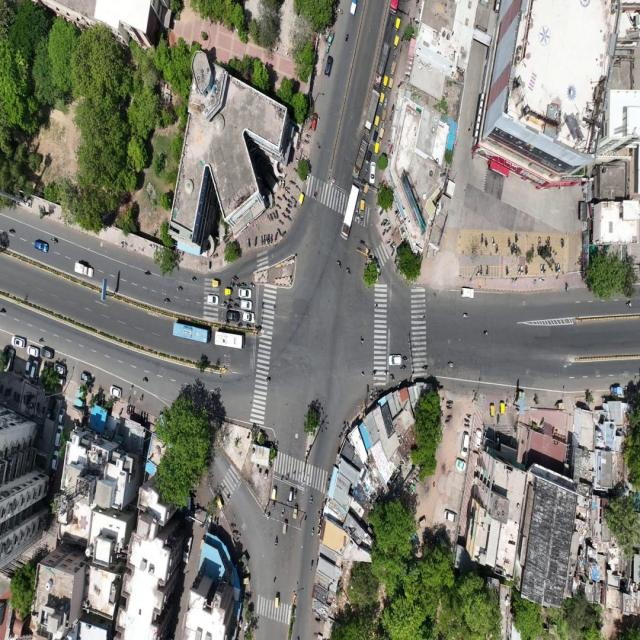3W: (212, 489, 224, 512), (271, 588, 281, 612), (270, 481, 278, 503), (487, 403, 496, 419), (292, 502, 299, 522), (210, 276, 220, 289), (296, 192, 306, 205), (392, 34, 400, 50), (390, 62, 398, 78), (500, 400, 507, 417), (379, 91, 385, 110), (281, 519, 288, 535), (365, 150, 372, 166), (394, 17, 400, 34), (383, 75, 389, 92), (364, 183, 370, 200), (374, 114, 380, 130), (374, 142, 380, 158), (378, 128, 385, 141), (372, 129, 378, 144), (359, 178, 365, 193), (359, 200, 366, 212), (388, 78, 393, 94), (381, 110, 386, 126), (224, 287, 232, 296)
Bus: (170, 319, 212, 348), (212, 328, 246, 352)
Cars: (457, 432, 470, 456), (33, 238, 49, 256), (458, 286, 477, 301), (54, 424, 64, 450), (324, 54, 334, 80), (49, 450, 60, 472), (52, 362, 67, 378), (109, 382, 122, 400), (310, 109, 320, 132), (10, 335, 26, 349), (203, 293, 220, 306), (56, 405, 68, 423), (41, 346, 56, 360), (241, 311, 256, 323), (370, 161, 377, 186), (27, 344, 40, 357), (388, 354, 402, 366), (226, 310, 240, 322), (23, 360, 31, 380), (238, 288, 252, 299), (240, 299, 253, 310), (289, 486, 294, 502)
LCV: (73, 260, 96, 279)
M2W: (162, 293, 172, 306), (308, 556, 315, 573), (190, 272, 199, 285), (264, 508, 272, 522), (140, 374, 150, 385), (51, 235, 60, 247), (273, 533, 280, 548), (6, 226, 17, 235), (176, 281, 184, 293), (308, 492, 314, 508), (310, 524, 316, 540), (554, 261, 561, 274), (312, 189, 319, 202), (143, 268, 152, 278), (345, 266, 352, 278), (559, 238, 566, 250), (335, 257, 341, 270), (564, 281, 570, 294), (293, 486, 298, 501), (263, 376, 272, 384), (482, 328, 490, 337), (447, 360, 455, 369), (399, 364, 408, 372), (506, 236, 512, 248), (538, 264, 544, 276), (460, 312, 470, 319), (496, 412, 501, 426), (475, 264, 480, 278), (524, 264, 529, 278), (359, 336, 365, 347), (371, 367, 377, 378), (364, 166, 370, 177), (345, 31, 350, 44), (281, 506, 286, 519), (384, 97, 389, 110), (421, 362, 429, 370), (288, 178, 296, 186), (402, 353, 409, 362), (624, 300, 633, 307), (390, 372, 396, 382), (445, 398, 455, 404), (444, 404, 454, 410), (284, 472, 290, 482), (360, 214, 365, 226), (382, 368, 389, 376), (485, 263, 489, 277), (231, 274, 239, 281), (254, 234, 258, 248), (272, 211, 277, 222), (463, 412, 472, 418), (295, 184, 301, 193), (381, 229, 387, 238), (495, 242, 499, 255), (514, 232, 518, 245), (248, 236, 252, 249), (260, 234, 264, 247), (505, 265, 510, 275), (392, 50, 397, 60), (446, 414, 454, 420), (463, 423, 471, 429), (481, 230, 484, 246), (491, 236, 495, 248), (230, 280, 236, 288), (248, 282, 256, 288), (274, 232, 278, 244), (287, 199, 293, 207), (282, 187, 290, 193), (388, 112, 392, 124), (521, 264, 524, 279), (294, 167, 299, 176), (278, 227, 283, 236), (282, 211, 287, 220), (543, 264, 547, 275), (385, 119, 389, 130), (546, 234, 550, 244), (531, 242, 535, 252), (266, 214, 270, 224), (282, 193, 287, 201), (271, 502, 275, 512), (386, 237, 391, 245), (390, 249, 395, 257), (391, 103, 395, 113), (368, 140, 372, 150), (517, 263, 520, 276), (265, 233, 268, 246), (360, 369, 364, 378), (538, 236, 542, 245), (237, 322, 243, 328), (224, 319, 230, 325), (245, 324, 251, 330), (236, 281, 242, 287), (387, 218, 391, 227), (356, 215, 360, 224), (463, 418, 470, 423), (277, 194, 282, 201), (221, 302, 226, 308), (227, 298, 233, 303), (234, 297, 240, 302), (226, 304, 232, 309), (233, 303, 239, 308), (242, 281, 247, 287), (270, 234, 273, 244), (276, 204, 282, 209), (381, 217, 385, 224), (355, 208, 359, 215)
Truck: (338, 182, 362, 242), (352, 134, 371, 182), (373, 42, 391, 90), (364, 91, 380, 135)
